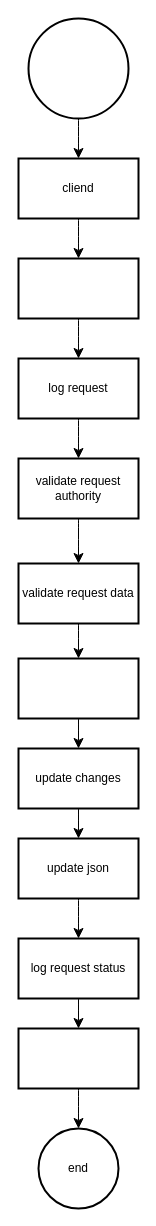
This 156x1226 diagram has some shape labels left out. The centre of each missing label's shape, as x and y in pixels:
"fast api server" goes at (x=78, y=288).
"log validation status" goes at (x=78, y=688).
"send response" goes at (x=78, y=1058).
"start" goes at (x=78, y=68).
